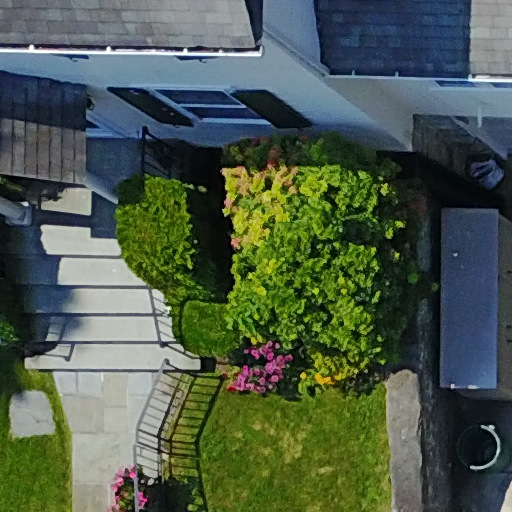garbage bin: (451, 413, 508, 477)
